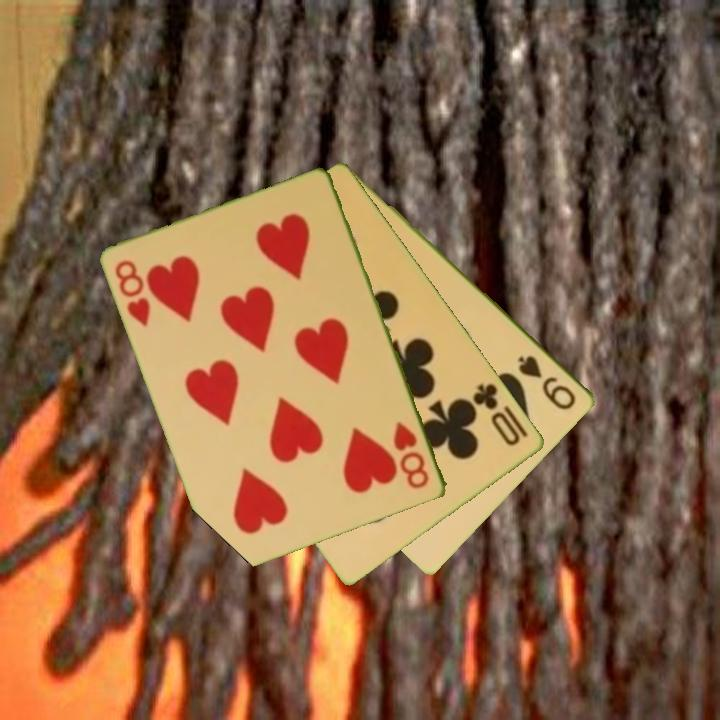10c: (469, 380, 524, 449)
8h: (390, 418, 433, 492), (111, 256, 154, 330)
9s: (514, 351, 580, 413)
